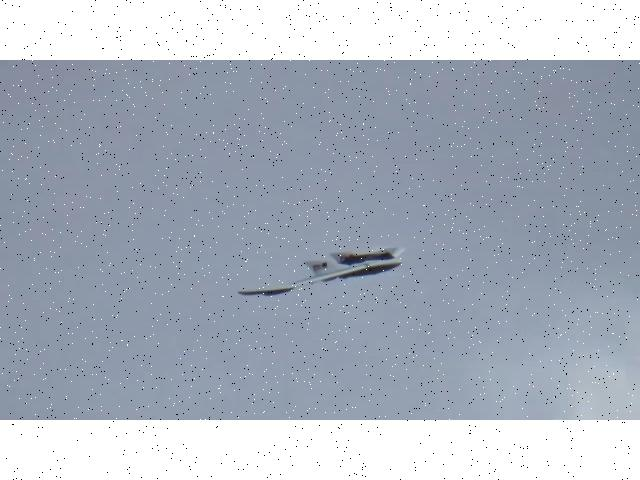Anti-Drone: (235, 244, 407, 296)
